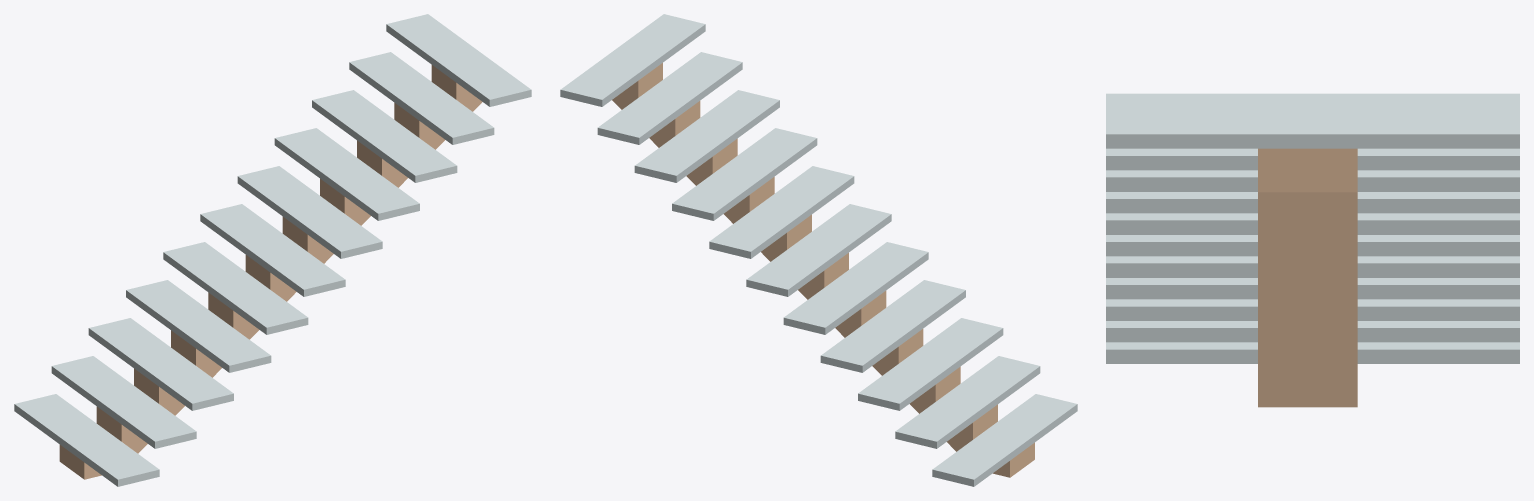
Rendered from stairsOpenSingle.glb.
The picture shows the model from 3 angles, left to right: view 1: azimuth 30°, elevation 25°; view 2: azimuth 150°, elevation 25°; view 3: azimuth 270°, elevation 25°; orthographic projection. The views are drawn at different scales.
Visible parts, largest first — view 1: stairsOpenSingle(Clone), Group; view 2: stairsOpenSingle(Clone), Group; view 3: stairsOpenSingle(Clone), Group.
Boxes of the visible parts, bbox=[...] form: stairsOpenSingle(Clone): bbox=[14, 14, 531, 486]; Group: bbox=[59, 65, 482, 479]; stairsOpenSingle(Clone): bbox=[560, 14, 1077, 486]; Group: bbox=[612, 63, 1034, 477]; stairsOpenSingle(Clone): bbox=[1106, 93, 1519, 363]; Group: bbox=[1258, 148, 1357, 407].
Bounding box in the file's own units: 1.82 × 1.34 × 0.79.
